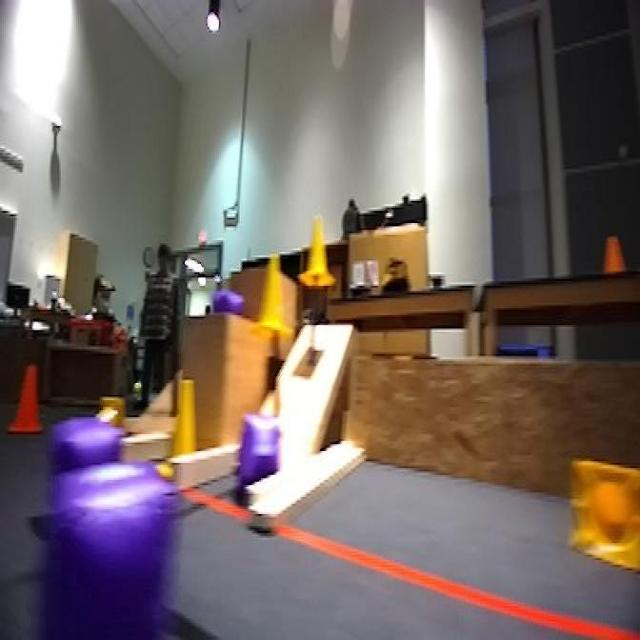frc_cone: (571, 458, 640, 572), (159, 371, 208, 482), (256, 242, 292, 340), (86, 390, 126, 437), (306, 218, 330, 296)
frc_cube: (21, 441, 193, 604), (40, 429, 103, 519), (232, 417, 277, 499), (206, 291, 246, 317)
